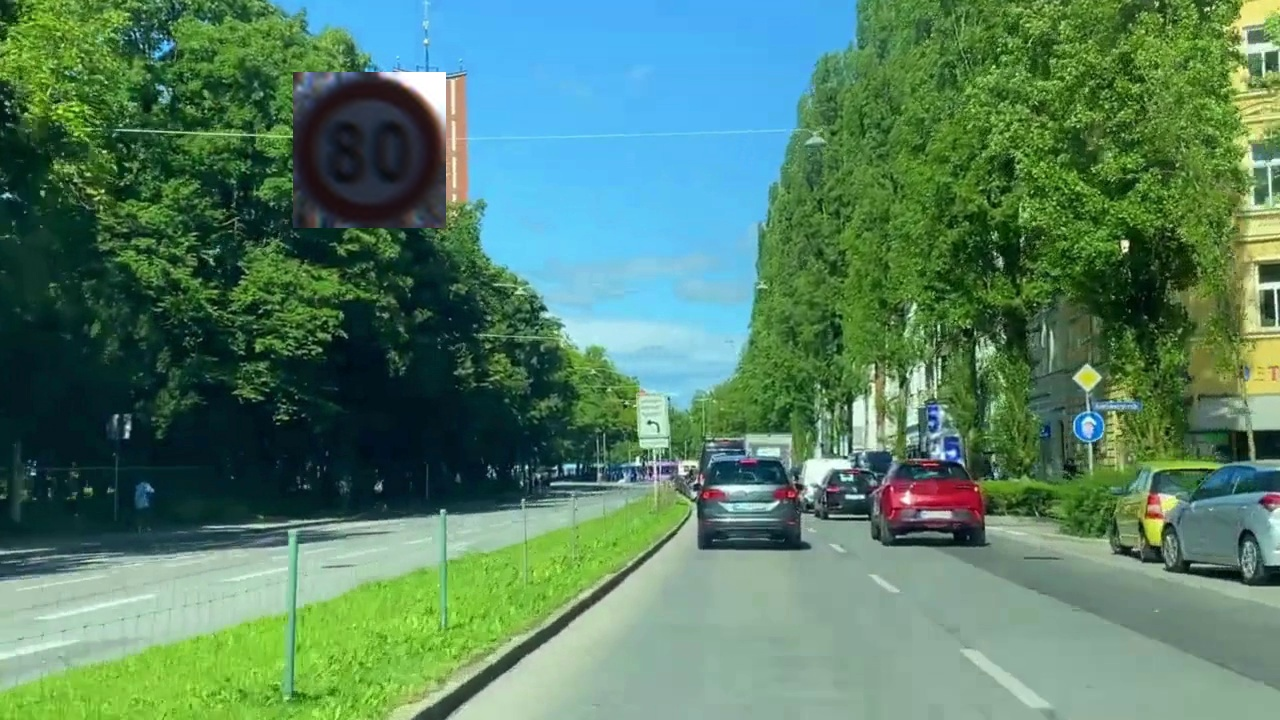Speed 80: (293, 72, 446, 228)
